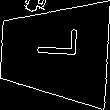L_W: (29, 35, 80, 69)
